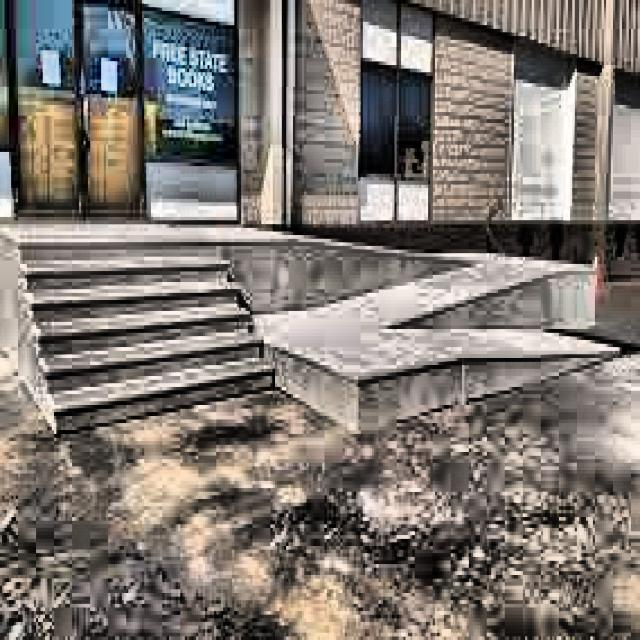escada: (18, 242, 270, 434)
